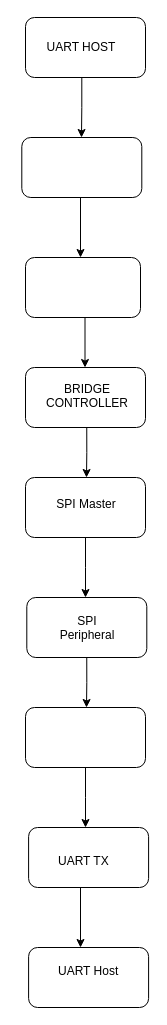
Image size: 167x1025. Some labels were removed from this diagram. Here are the shapes that lost their labels. From the top down, the centre of each, then its label:
At (81,167): "UART RX".
At (82,287): "RX FIFO".
At (85,737): "TX FIFO".
